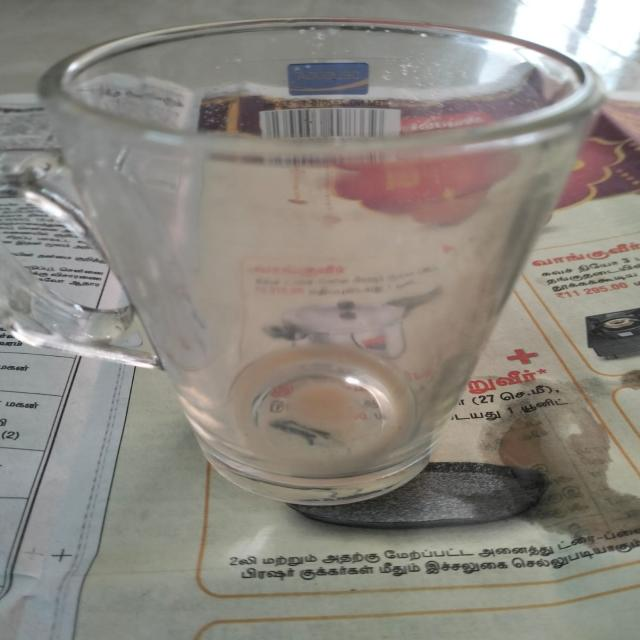glass-VX4N: (7, 14, 627, 472)
